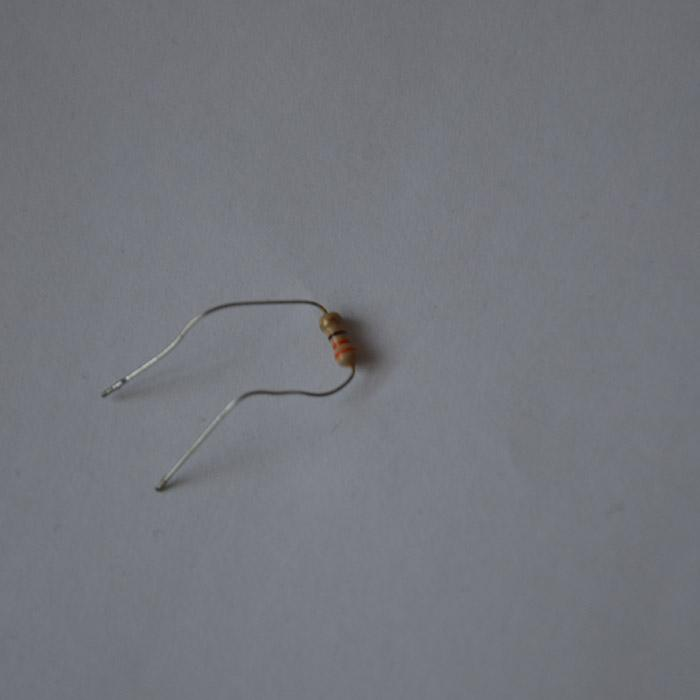resistor: (318, 310, 355, 368)
